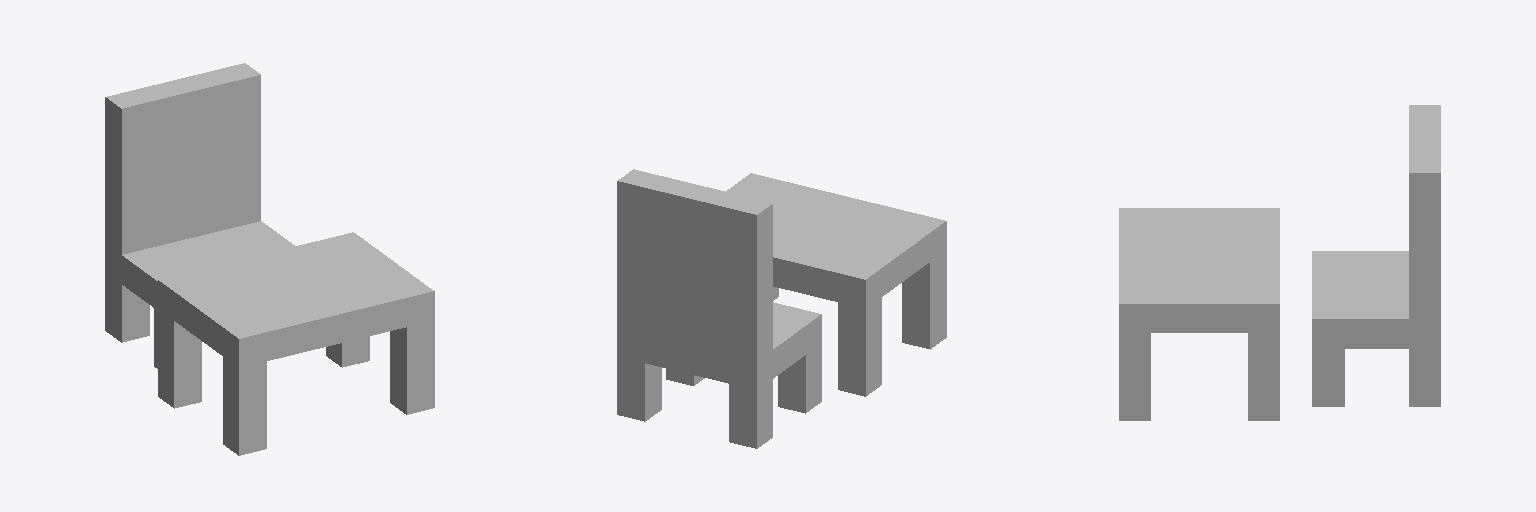
File: CHAIR USE THIS ONE.obj
The picture shows the model from 3 angles: view 1: azimuth 30°, elevation 25°; view 2: azimuth 150°, elevation 25°; view 3: azimuth 270°, elevation 25°; orthographic projection.
Parts seen in each view (by area): view 1: object 1; view 2: object 1; view 3: object 1.
Boxes of the visible parts, <box> form: object 1: <box>105,63,434,455</box>; object 1: <box>617,169,946,448</box>; object 1: <box>1119,105,1440,420</box>.
Size of the model in its own units: 0.7 by 0.8 by 1.